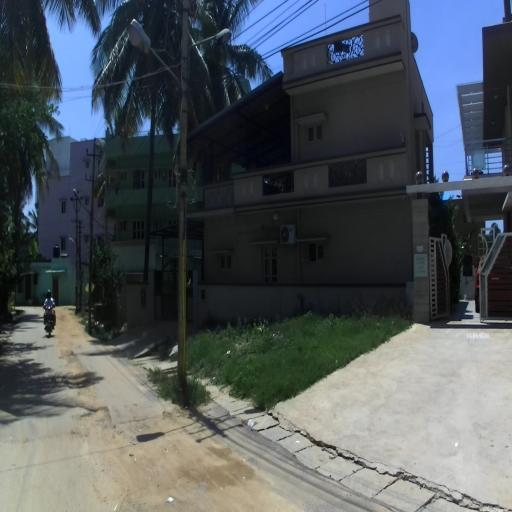street_light_0: (126, 18, 188, 124), (181, 27, 232, 79), (72, 188, 94, 228), (69, 237, 81, 254)
